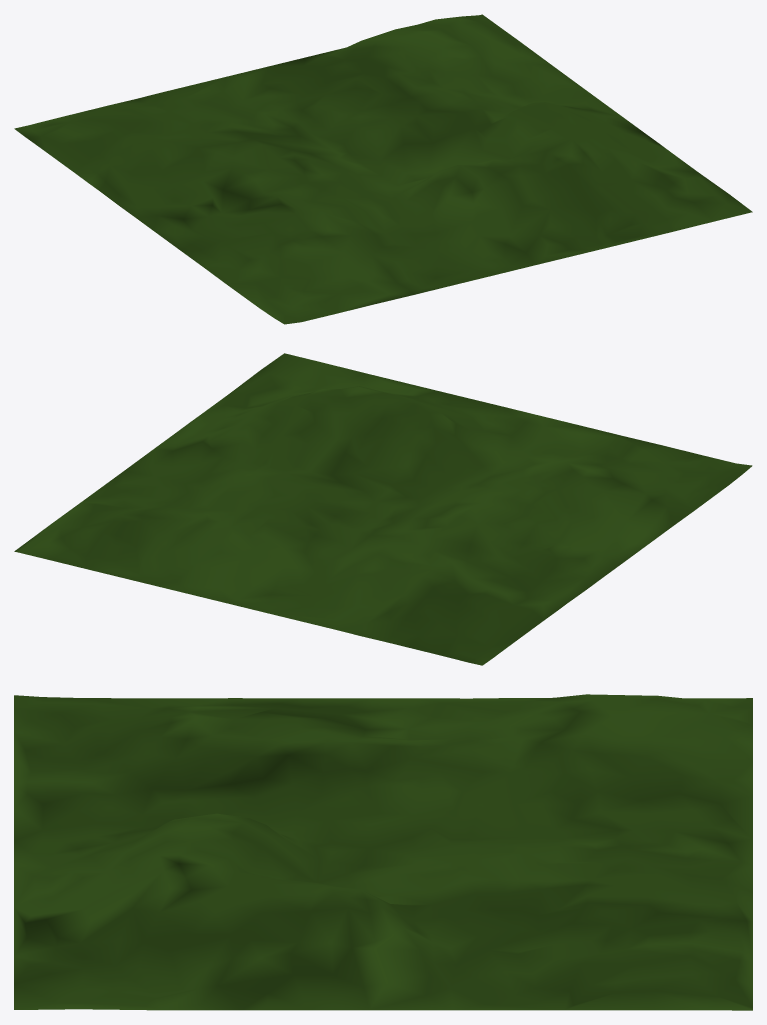
Rendered from Terrain_2.obj.
The picture shows the model from 3 angles, top to bottom: view 1: azimuth 30°, elevation 25°; view 2: azimuth 150°, elevation 25°; view 3: azimuth 270°, elevation 25°; orthographic projection. The views are drawn at different scales.
Parts seen in each view (by area): view 1: Terrain_2; view 2: Terrain_2; view 3: Terrain_2.
Part boxes in pixels (left/top/right/bottom): Terrain_2: left=14, top=14, right=752, bottom=324; Terrain_2: left=14, top=353, right=752, bottom=665; Terrain_2: left=14, top=694, right=752, bottom=1010.
Bounding box in the file's own units: 2001 × 176 × 2000.
